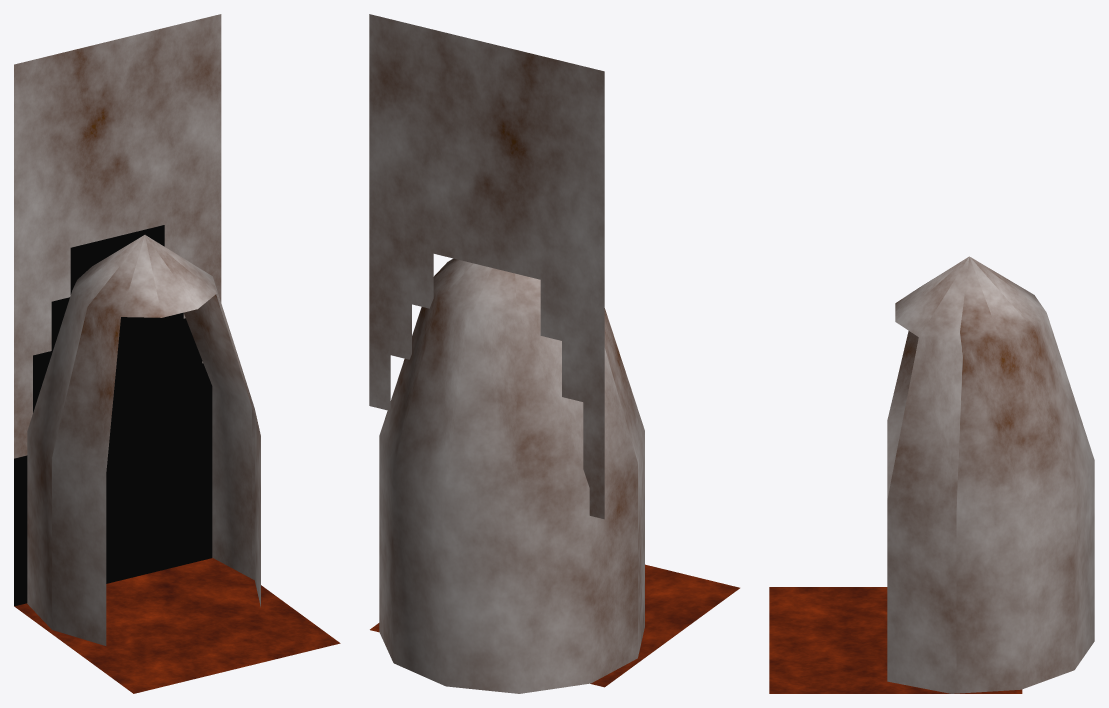
The model's file is MountainCave2.glb.
The picture shows the model from 3 angles, left to right: view 1: azimuth 30°, elevation 25°; view 2: azimuth 150°, elevation 25°; view 3: azimuth 270°, elevation 25°; orthographic projection. The views are drawn at different scales.
Visible parts, largest first — view 1: ground, Sphere, ground.001; view 2: Sphere, ground, ground.001; view 3: Sphere, ground.001.
Boxes of the visible parts, x1,y1,x2,y2 form: ground: (14, 14, 221, 606); Sphere: (27, 235, 260, 645); ground.001: (14, 558, 340, 693); Sphere: (379, 258, 644, 693); ground: (369, 14, 604, 519); ground.001: (370, 564, 739, 687); Sphere: (887, 256, 1094, 693); ground.001: (769, 587, 1022, 693).
Size of the model in its own units: 2 by 5 by 2.57.
3 materials, 2 textured.
